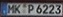character: (42, 2, 48, 14), (27, 3, 34, 13), (55, 3, 61, 14), (35, 4, 42, 13), (48, 4, 54, 14)
